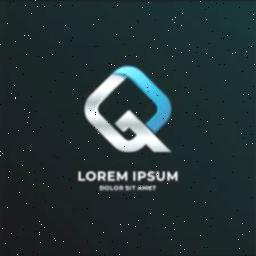q: (77, 58, 175, 160)
